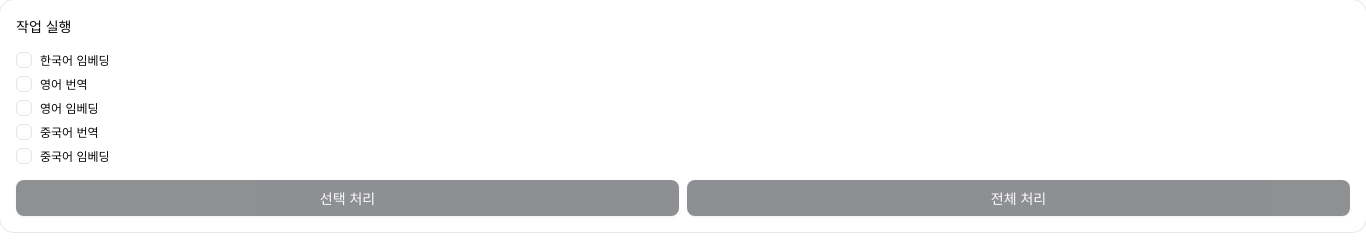
Test case: TaskExecution › 하나라도 체크되어 있으면 선택 처리·전체 처리 버튼이 활성화된다
// 체크박스를 하나 체크해야 버튼이 활성화됨
Step 1. Click the checkbox named "한국어 임베딩" next to "한국어 임베딩" → (24, 60), box [16,52,32,68]
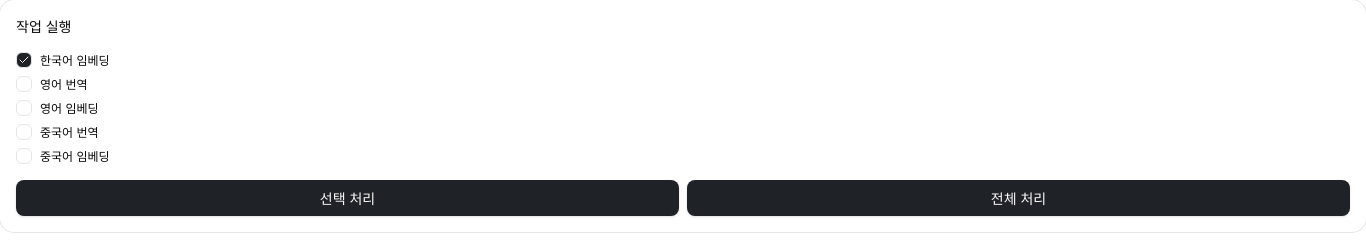
Expected: the button "선택 처리" is enabled, [16,180,679,216]
Expected: the button "전체 처리" is enabled, [687,180,1350,216]
